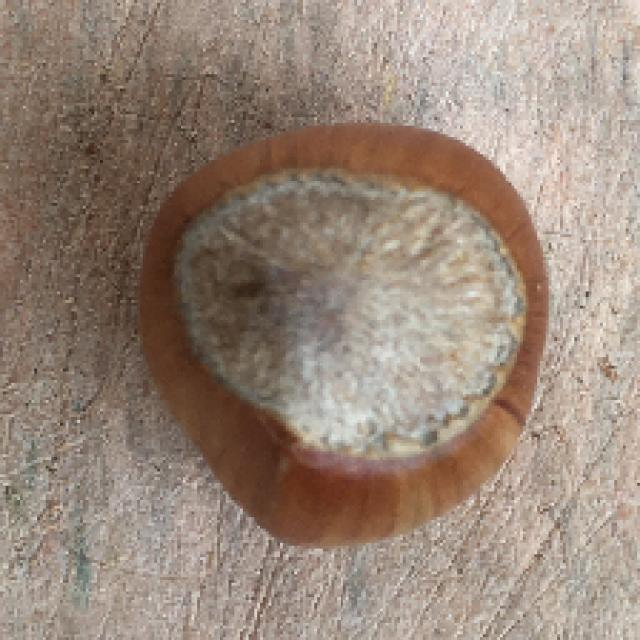qualityHazelnut: (136, 124, 553, 560)
